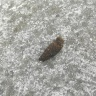Dog: (38, 37, 64, 62)
